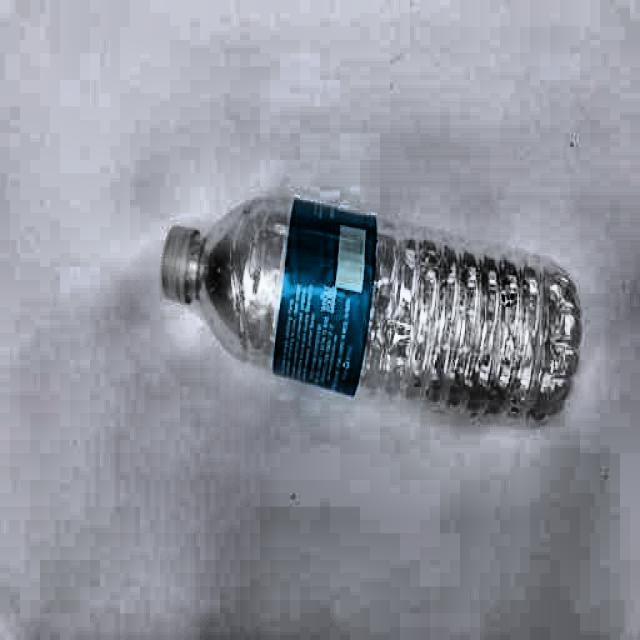plastic: (162, 193, 580, 426)
